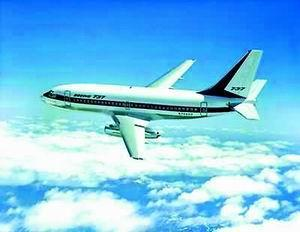airplane: (37, 46, 268, 160)
